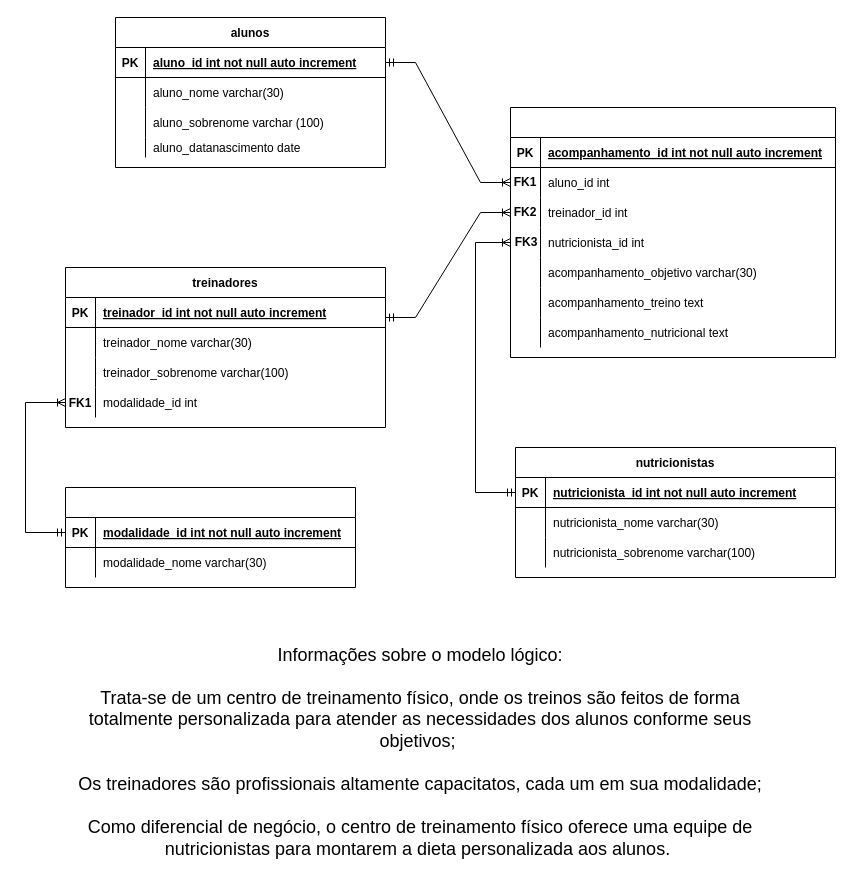
The diagram is 853 pixels wide and 878 high, and some of its shapes have lost their labels. Each missing label, with the box of its shape:
acompanhamentos: (510, 106, 836, 358)
modalidades: (64, 486, 356, 588)
